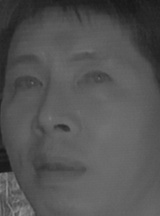eye: (75, 68, 115, 90), (12, 74, 45, 96)
mouth: (28, 153, 89, 190)
